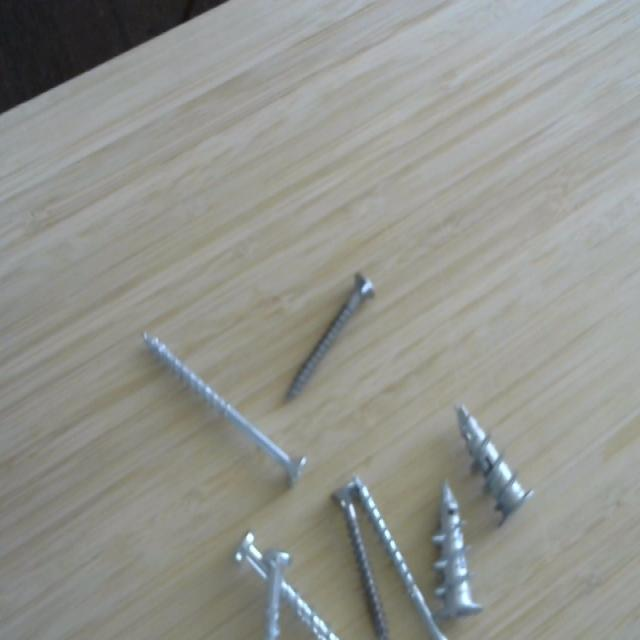Black screw: (283, 260, 378, 415), (330, 478, 393, 640)
Long screw: (136, 334, 309, 492), (353, 455, 428, 618)
Medium screw: (227, 525, 343, 639), (258, 539, 291, 640)
Short screw: (456, 391, 542, 535), (434, 478, 486, 622)
